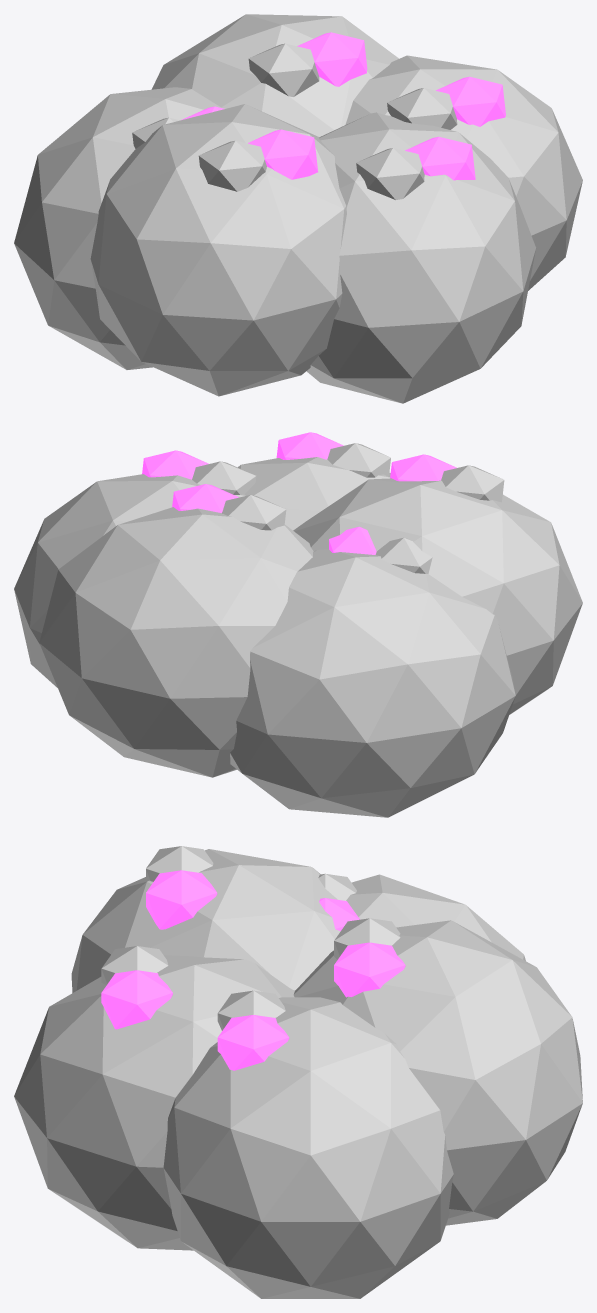
3 views of the same model, one above another, from view 1: azimuth 30°, elevation 25°; view 2: azimuth 150°, elevation 25°; view 3: azimuth 270°, elevation 25° (orthographic). The views are drawn at different scales.
Visible parts, largest first — view 1: Neon_FlowerBush_Standard; view 2: Neon_FlowerBush_Standard; view 3: Neon_FlowerBush_Standard.
Boxes of the visible parts, x1=… form: Neon_FlowerBush_Standard: x1=14, y1=14, x2=582, y2=403; Neon_FlowerBush_Standard: x1=14, y1=432, x2=582, y2=817; Neon_FlowerBush_Standard: x1=14, y1=846, x2=582, y2=1298.
Size of the model in its own units: 1.63 by 0.9 by 1.49.
